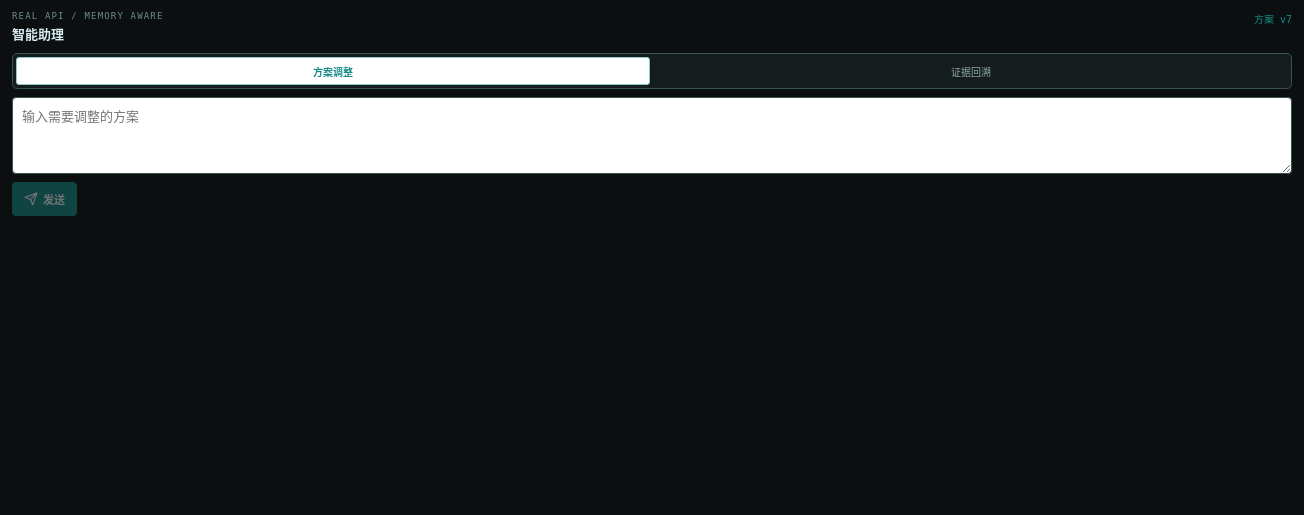
Test: SmartAssistantPanel › renders both answer and proposal for a backend mixed classification
The image size is (1304, 515).
In the text box named "智能助理输入": coordinates (652, 135) [12,97,1292,174], type "同时回答并调整"
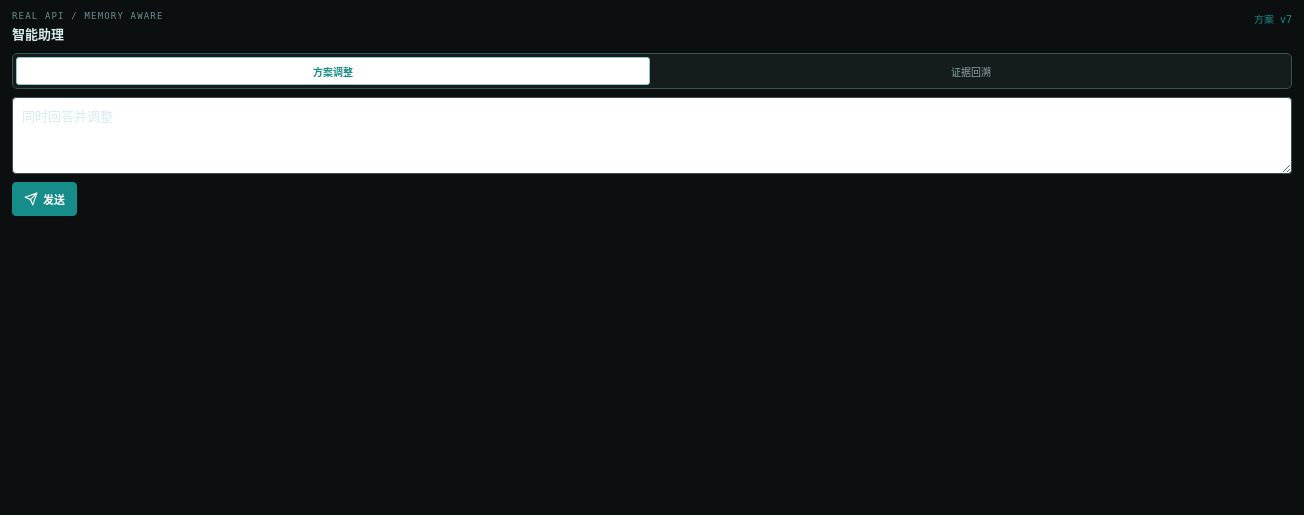
Click the button "发送": coordinates (44, 198) [12,182,77,216]
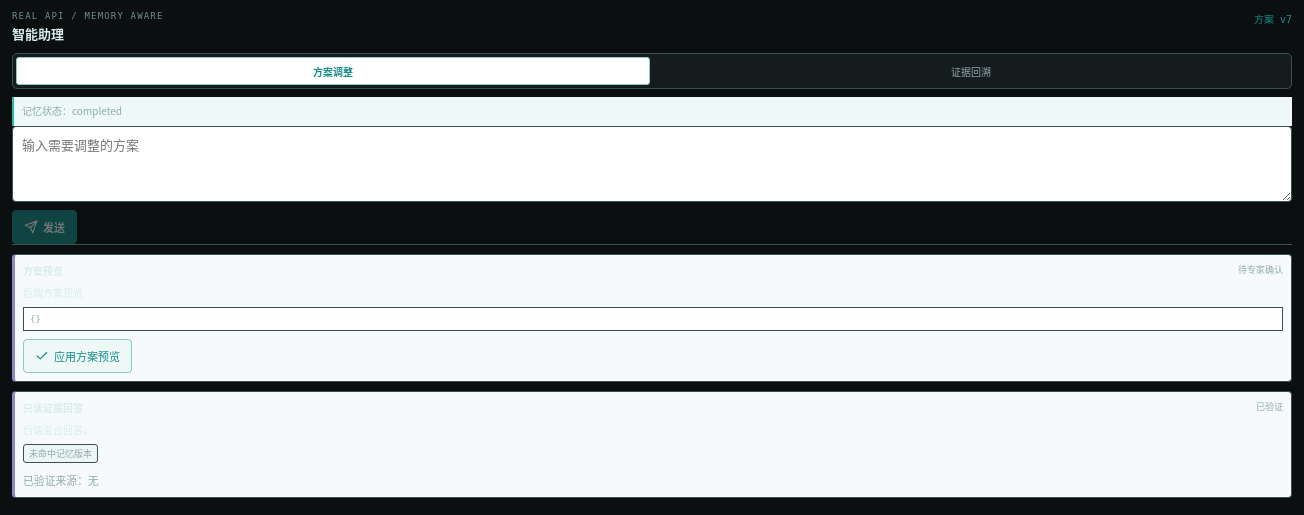
expect the text "后端混合回答。" is shown: met, box [23,422,93,437]
expect the text "后端方案预览" is shown: met, box [23,285,83,300]
expect the button "应用方案预览" is shown: met, box [23,339,132,373]
